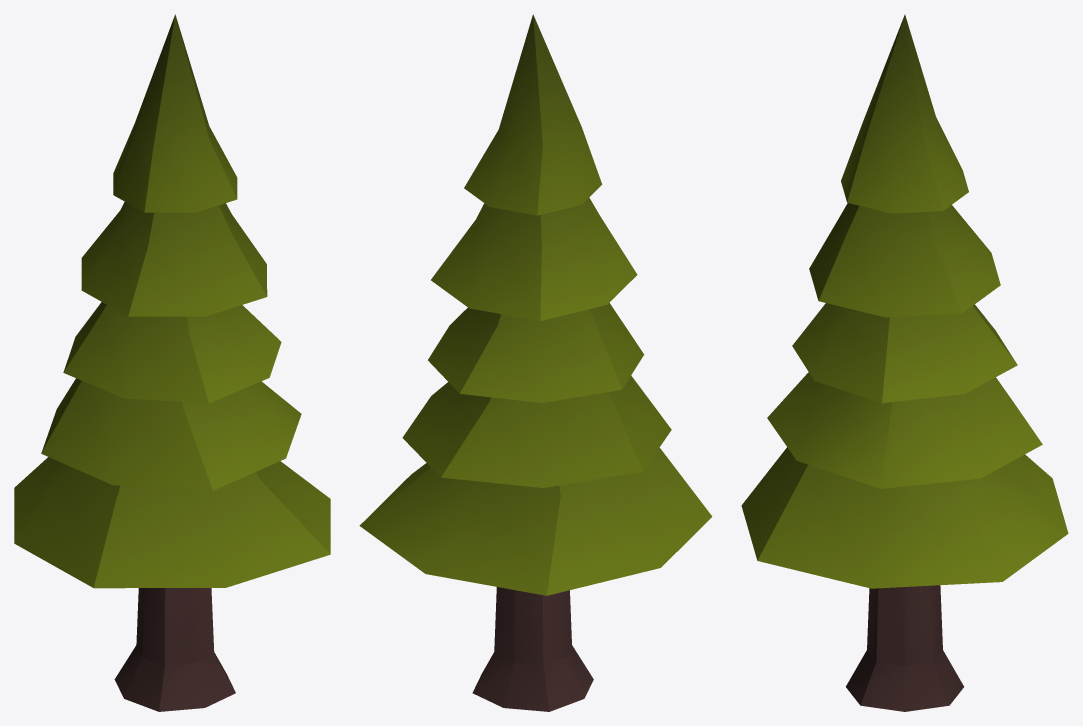
The model's file is Boom_standaard_Blad.fbx.
3 views of the same model, side by side, from view 1: azimuth 30°, elevation 25°; view 2: azimuth 150°, elevation 25°; view 3: azimuth 270°, elevation 25° (orthographic).
Visible parts, largest first — view 1: Boom_standaard_Blad; view 2: Boom_standaard_Blad; view 3: Boom_standaard_Blad.
Boxes of the visible parts, bbox=[...] form: Boom_standaard_Blad: bbox=[14, 14, 330, 711]; Boom_standaard_Blad: bbox=[359, 14, 712, 711]; Boom_standaard_Blad: bbox=[741, 14, 1068, 711].
Size of the model in its own units: 297 by 673 by 297.
